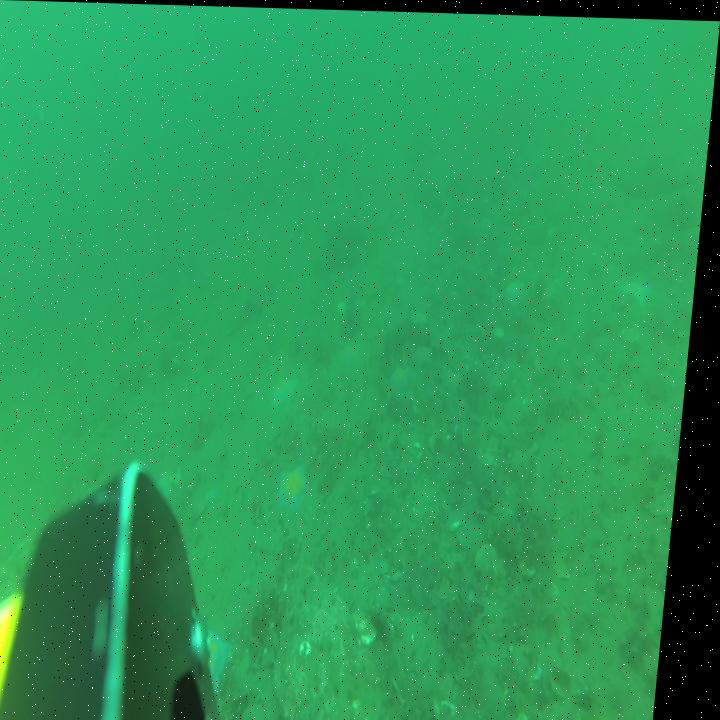echinus: (376, 597, 405, 647), (626, 321, 648, 341)
holothurian: (550, 393, 594, 423)
scallop: (653, 479, 684, 512), (521, 639, 548, 675), (485, 537, 510, 575), (413, 639, 440, 673), (443, 568, 471, 597), (562, 546, 585, 578), (553, 492, 579, 518), (468, 417, 486, 448), (264, 499, 283, 526), (502, 548, 520, 575), (366, 526, 387, 549), (528, 554, 549, 576), (489, 429, 510, 451), (485, 446, 505, 465)
starfish: (208, 621, 248, 696), (280, 457, 324, 518), (270, 371, 307, 413), (502, 269, 534, 309), (622, 269, 658, 304), (392, 360, 421, 393)
